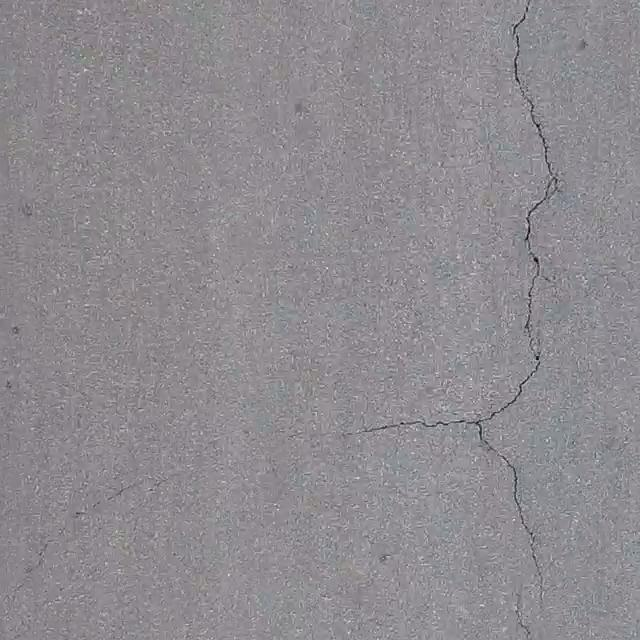GRIETA: (476, 0, 559, 598), (4, 525, 67, 610), (343, 419, 475, 437), (88, 479, 145, 511), (515, 594, 532, 639)
